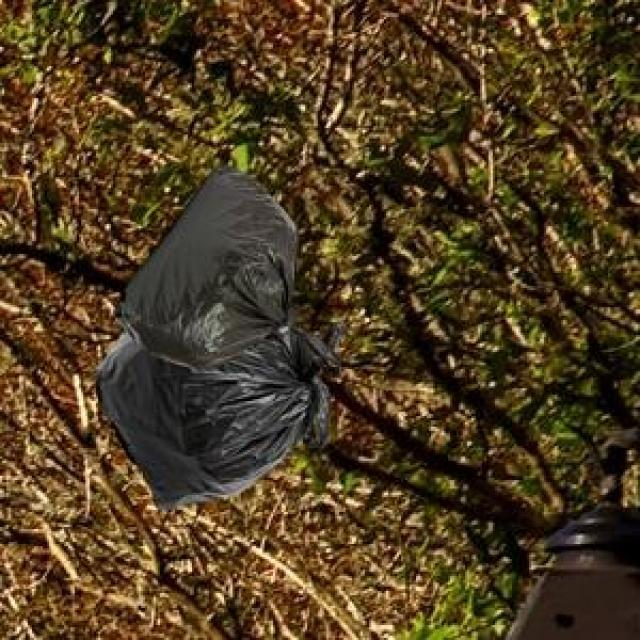Trashbag: (83, 334, 333, 524), (116, 169, 323, 374)
